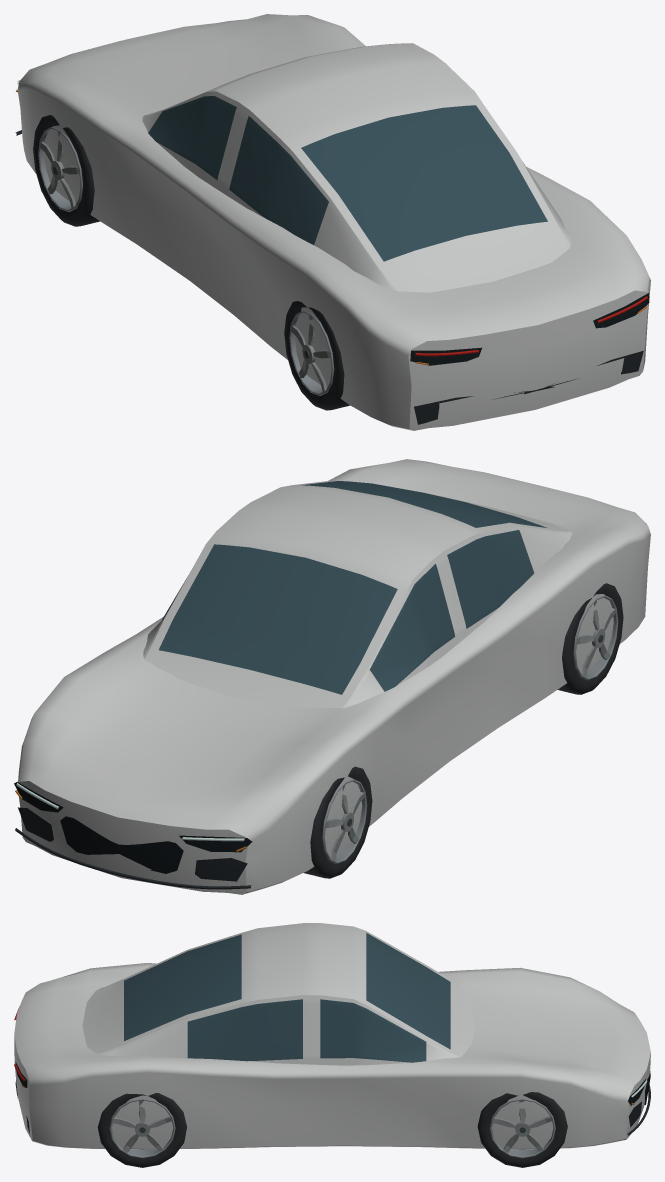
Rendered from kessel-r4-lod.glb.
The picture shows the model from 3 angles, top to bottom: view 1: azimuth 30°, elevation 25°; view 2: azimuth 150°, elevation 25°; view 3: azimuth 270°, elevation 25°; orthographic projection. The views are drawn at different scales.
Visible parts, largest first — view 1: paint, glass, wheelSurface (×2), trim; view 2: paint, glass, wheelSurface (×2), trim; view 3: paint, glass, wheelSurface (×2), trim.
Boxes of the visible parts, x1=… form: paint: x1=17, y1=14, x2=650, y2=430; glass: x1=148, y1=96, x2=547, y2=261; wheelSurface (×2): x1=33, y1=115, x2=349, y2=410; trim: x1=15, y1=130, x2=649, y2=424; paint: x1=18, y1=459, x2=650, y2=894; glass: x1=159, y1=481, x2=546, y2=694; wheelSurface (×2): x1=304, y1=583, x2=623, y2=878; trim: x1=14, y1=782, x2=252, y2=889; paint: x1=14, y1=923, x2=650, y2=1149; glass: x1=124, y1=933, x2=450, y2=1062; wheelSurface (×2): x1=97, y1=1092, x2=567, y2=1167; trim: x1=15, y1=1062, x2=650, y2=1135.
Bounding box in the file's own units: 1.94 × 1.38 × 4.79.
